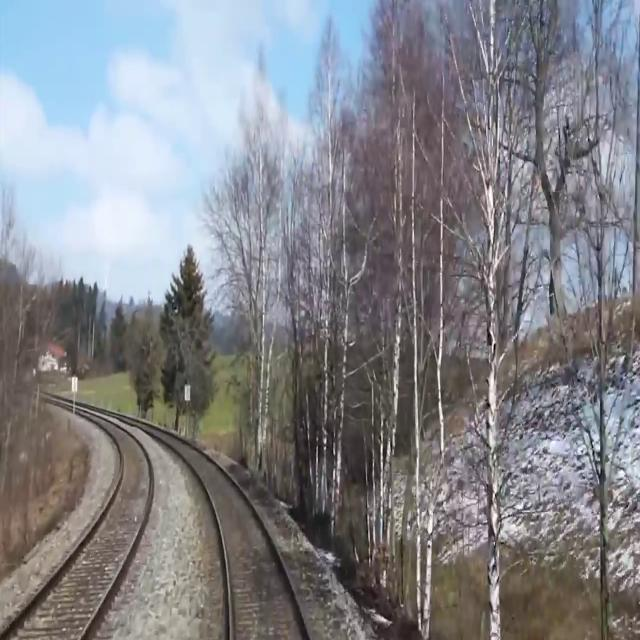rail-track: (5, 424, 149, 639), (166, 436, 306, 639)
